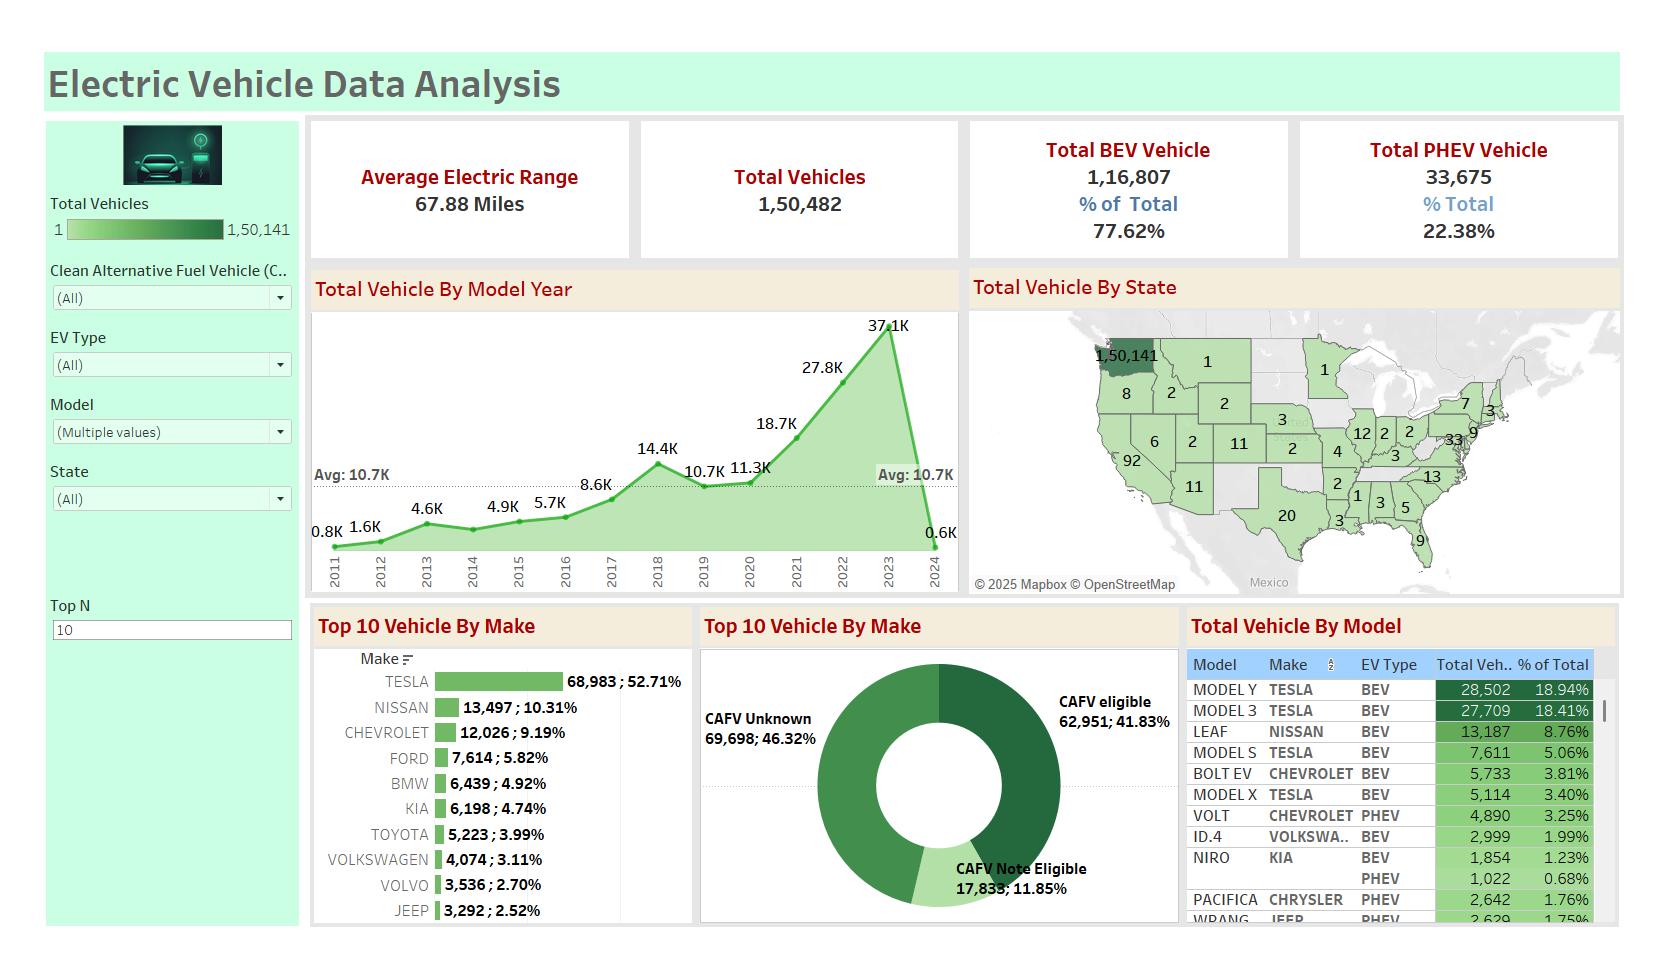

This screenshot's page, from the dashboard's own definition file:
{"tool":"tableau","page":{"name":"Ev Data Analysis","canvas":[1600,900],"ordinal":0},"visuals":[{"type":"title","box":[8,8,1584,67]},{"type":"worksheet","title":"Average Electric Range","mark":"Automatic","box":[273,75,329.7,149.3]},{"type":"worksheet","title":"Total Vehicle","mark":"Automatic","box":[602.8,75,329.7,149.3]},{"type":"worksheet","title":"Total BEV Vehicles","mark":"Automatic","box":[932.5,75,329.7,149.3]},{"type":"worksheet","title":"Total PHEV Vehicles","mark":"Automatic","box":[1262.2,75,329.7,149.3]},{"type":"image","param":"Image/[number redacted].png","box":[14,81,253,68]},{"type":"legend","title":"Total Vehicle By State","param":"[federated.1h3mw6i0xnf0w81g4899616ruvad].[usr:Calculation_1068197587204079616:qk","box":[14,149,253,67]},{"type":"filter","title":"Total Vehicle By Model Year","param":"[federated.1h3mw6i0xnf0w81g4899616ruvad].[none:Clean Alternative Fuel Vehicle (C","box":[14,216,253,67]},{"type":"worksheet","title":"Total Vehicle By Model Year","mark":"Area","rows":["Calculation_1068197587204079616","Calculation_1068197587204079616"],"cols":["Model Year"],"box":[273,224.3,659.5,333.9]},{"type":"worksheet","title":"Total Vehicle By State","mark":"Multipolygon","box":[932.5,224.3,659.5,333.9]},{"type":"filter","title":"Total Vehicle By Model Year","param":"[federated.1h3mw6i0xnf0w81g4899616ruvad].[none:Electric Vehicle Type:nk]","box":[14,283,253,67]},{"type":"filter","title":"Total Vehicle By Model Year","param":"[federated.1h3mw6i0xnf0w81g4899616ruvad].[none:Model:nk]","box":[14,350,253,67]},{"type":"filter","title":"Total Vehicle By Model Year","param":"[federated.1h3mw6i0xnf0w81g4899616ruvad].[none:State:nk]","box":[14,417,253,67]},{"type":"blank","box":[14,484,253,67]},{"type":"parameter","param":"[Parameters].[Parameter 1]","box":[14,551,253,67]},{"type":"worksheet","title":"Top 10 Vehicle By Make","mark":"Automatic","rows":["Make"],"cols":["Calculation_1068197587204079616"],"box":[278,563.1,386,323.8]},{"type":"worksheet","title":"Top Vehicle By CAFV Eligibility","mark":"Pie","rows":["Calculation_1274518745489121280","Calculation_1274518745489121280"],"box":[664,563.1,487,323.8]},{"type":"worksheet","title":"Total Vehicle By Model","mark":"Square","rows":["Model","Make","Electric Vehicle Type"],"box":[1151,563.1,436,323.8]},{"type":"blank","box":[14,618,253,67]},{"type":"blank","box":[14,685,253,67]},{"type":"blank","box":[14,752,253,67]},{"type":"blank","box":[14,819,253,67]}]}

Visuals, with their boxes on the page's 1600x900 design canvas (x1, y1, x2, y2). These are canvas units, not pixel positions in the 1672x978 screenshot, which may show the page scaled, cropped or inside an application window:
title: (8,8,1592,75)
"Average Electric Range" worksheet: (273,75,603,224)
"Total Vehicle" worksheet: (603,75,932,224)
"Total BEV Vehicles" worksheet: (932,75,1262,224)
"Total PHEV Vehicles" worksheet: (1262,75,1592,224)
image: (14,81,267,149)
"Total Vehicle By State" legend: (14,149,267,216)
"Total Vehicle By Model Year" filter: (14,216,267,283)
"Total Vehicle By Model Year" worksheet (Area marks): (273,224,932,558)
"Total Vehicle By State" worksheet (Multipolygon marks): (932,224,1592,558)
"Total Vehicle By Model Year" filter: (14,283,267,350)
"Total Vehicle By Model Year" filter: (14,350,267,417)
"Total Vehicle By Model Year" filter: (14,417,267,484)
blank: (14,484,267,551)
parameter: (14,551,267,618)
"Top 10 Vehicle By Make" worksheet: (278,563,664,887)
"Top Vehicle By CAFV Eligibility" worksheet (Pie marks): (664,563,1151,887)
"Total Vehicle By Model" worksheet (Square marks): (1151,563,1587,887)
blank: (14,618,267,685)
blank: (14,685,267,752)
blank: (14,752,267,819)
blank: (14,819,267,886)
